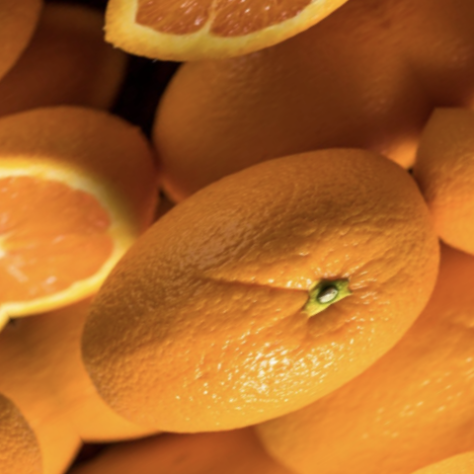orange: (6, 74, 474, 474)
